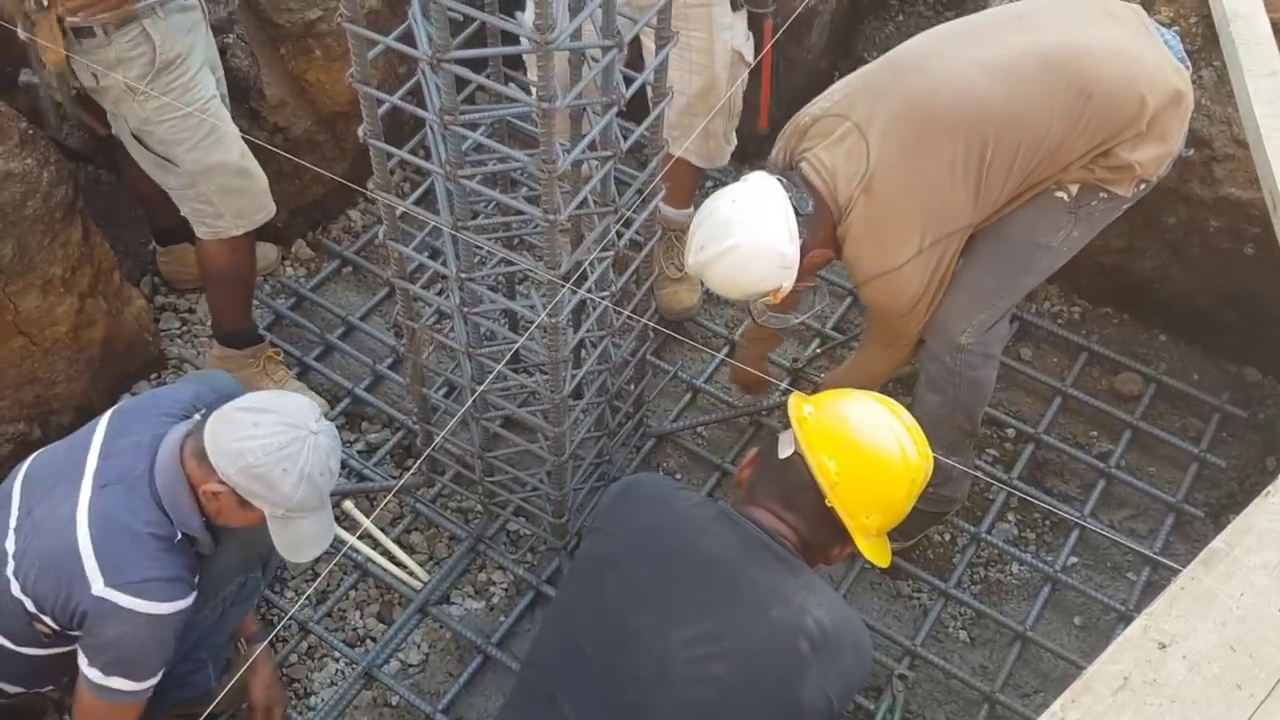helmet: (775, 386, 936, 565), (682, 172, 799, 304)
helmet-off: (180, 379, 331, 572)
helmet-on: (716, 385, 938, 584), (690, 151, 849, 305)
person: (682, 0, 1194, 507), (505, 390, 937, 719), (0, 369, 365, 720), (7, 0, 315, 372), (514, 3, 759, 334)
